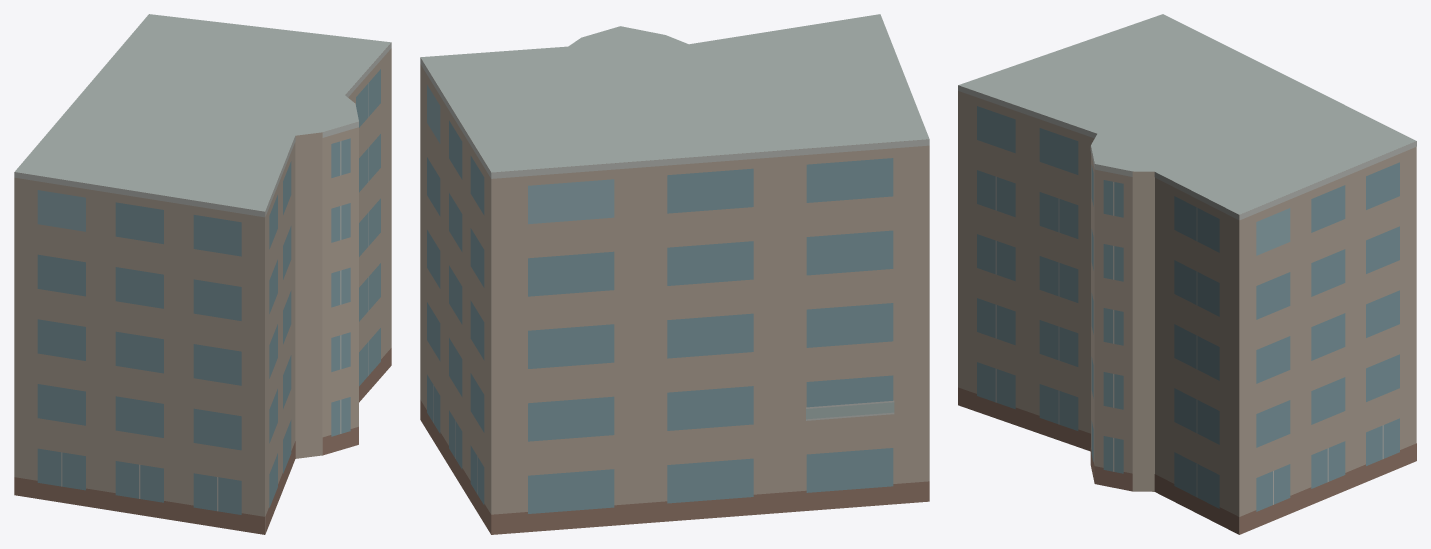
The model's file is survey-upis-32874942.glb.
3 renders of one model, left to right at view 1: azimuth 30°, elevation 25°; view 2: azimuth 150°, elevation 25°; view 3: azimuth 270°, elevation 25°, orthographic. The views are drawn at different scales.
Parts seen in each view (by area): view 1: survey-upis-32874942.tmp; view 2: survey-upis-32874942.tmp; view 3: survey-upis-32874942.tmp.
Boxes of the visible parts, left/top/right/bottom form: survey-upis-32874942.tmp: left=14, top=14, right=391, bottom=534; survey-upis-32874942.tmp: left=420, top=14, right=929, bottom=534; survey-upis-32874942.tmp: left=958, top=14, right=1416, bottom=534.
Bounding box in the file's own units: 18.58 × 13.8 × 17.93.
